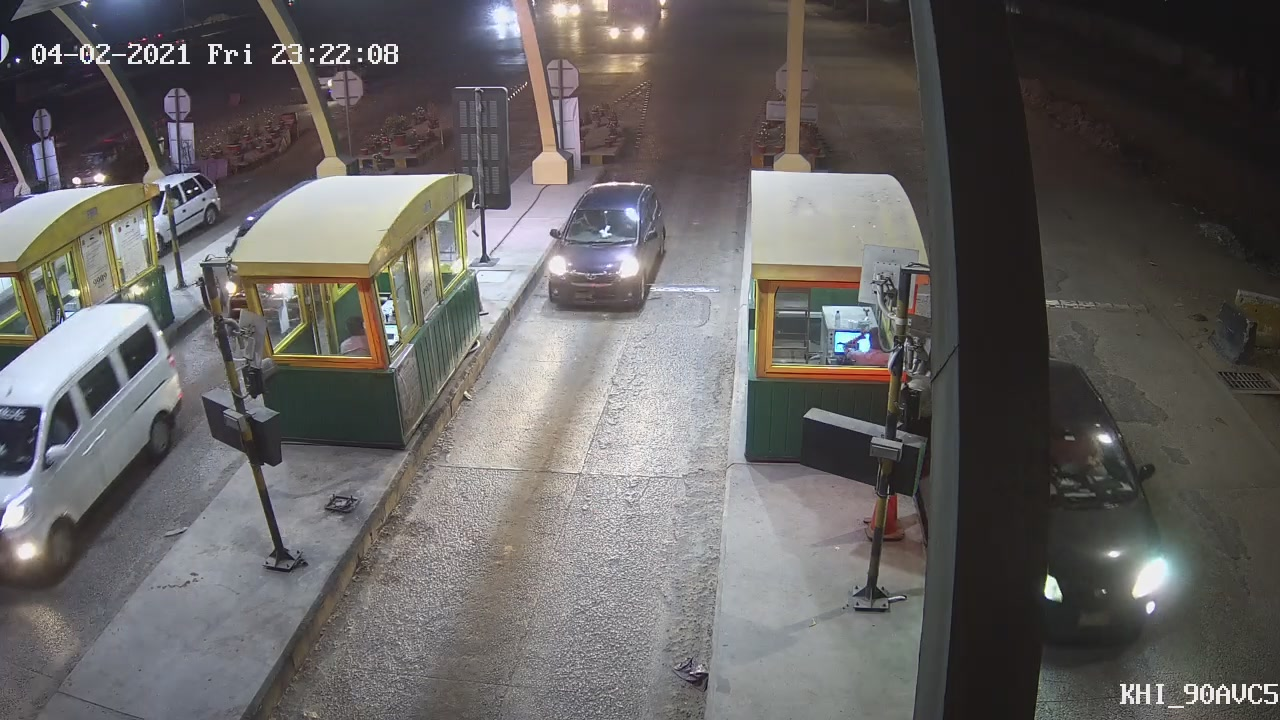F1: (539, 176, 673, 313)
